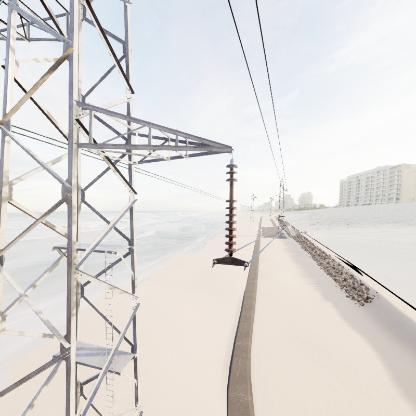insulator: (222, 161, 242, 259)
